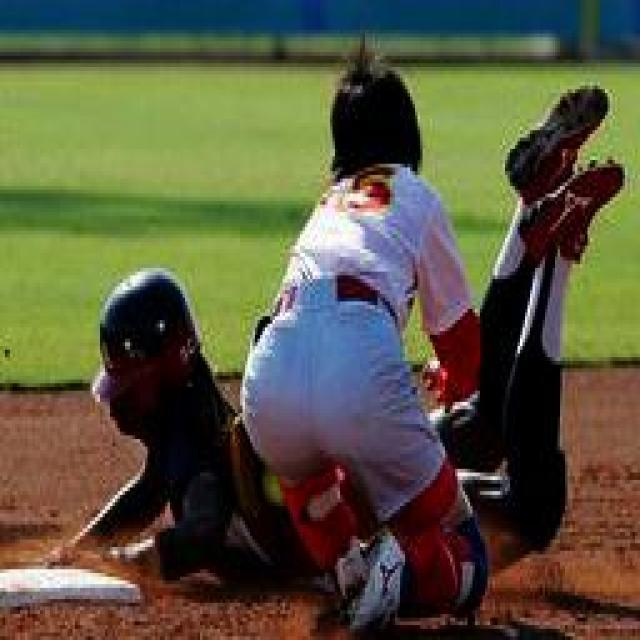fall: (93, 268, 565, 577)
